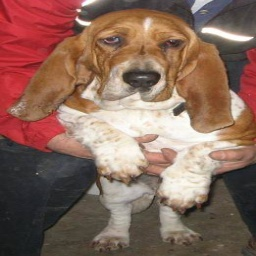dog: (25, 6, 237, 244)
